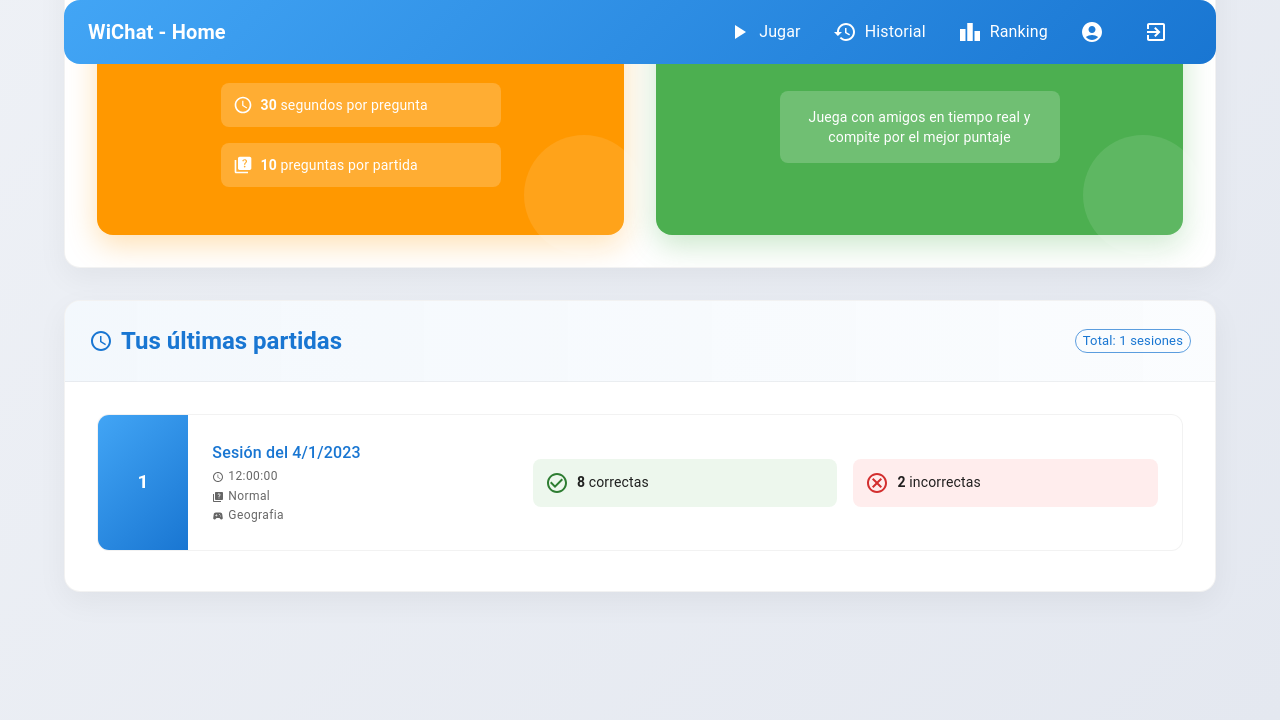
Test case: HomePage Component › opens and interacts with session details dialog
This screenshot has width=1280, height=720.
(page scrolled)
Expected: the heading "Tus últimas partidas" is shown, [89,325,342,357]
Click on a session card
Click the text "correctas" at (640,482), box [97,414,1183,551]
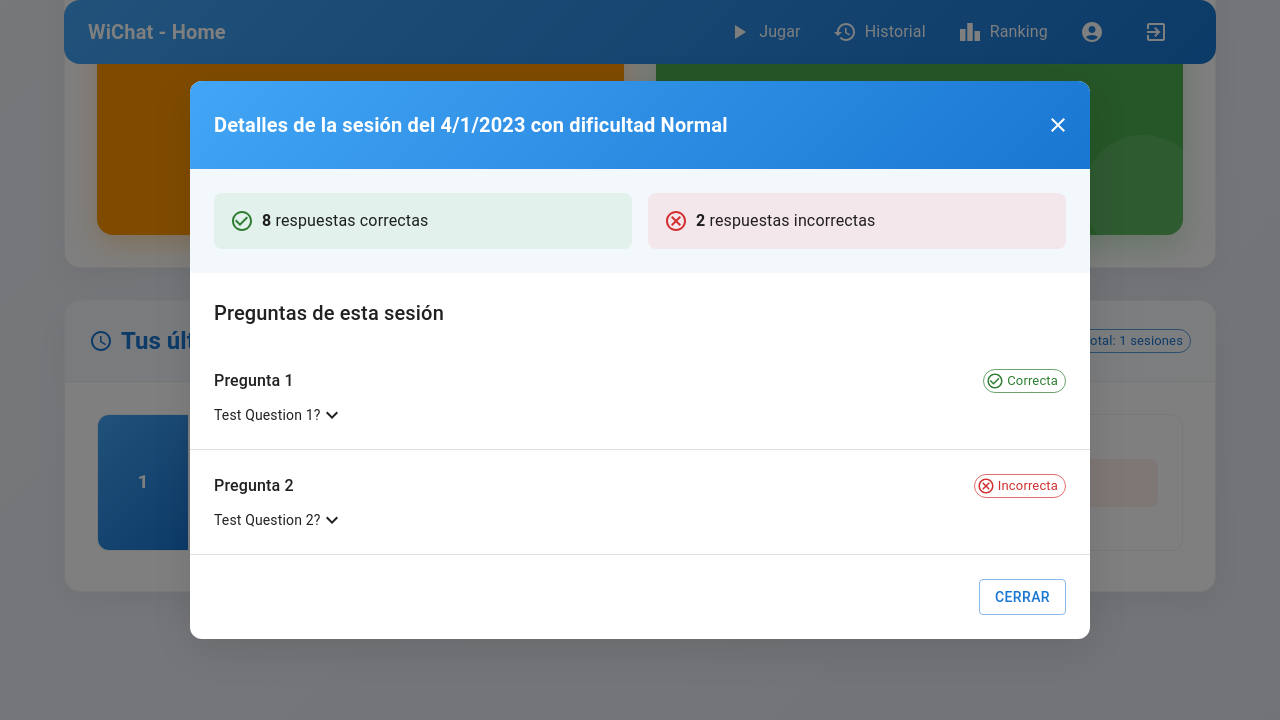
Now the text "Detalles de la sesión del 4/1/2023 con dificultad Normal" is shown, box [214,109,728,141]
Now the heading "Pregunta 1" is shown
Expand question details
Click the heading "Pregunta 1" at (254,381), box [214,367,294,395]
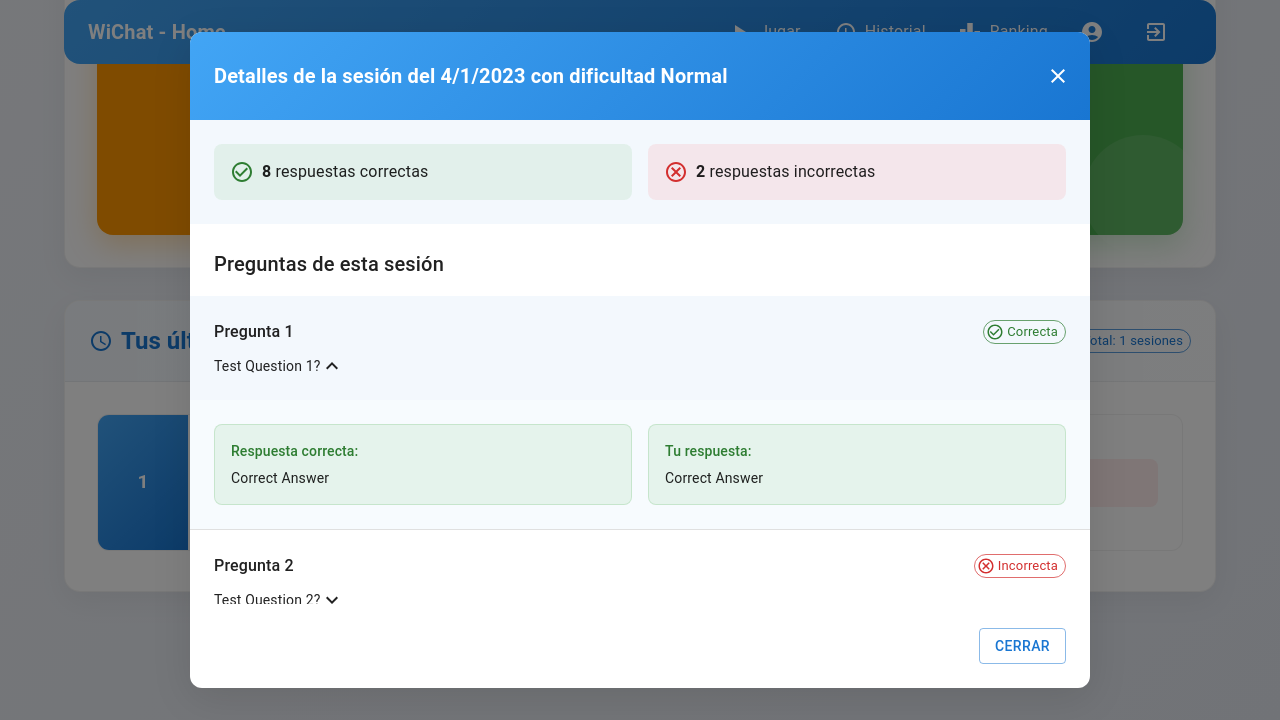
Now the heading "Respuesta correcta:" is shown, box [231,443,358,459]
Close dialog
Click the button "Cerrar" at (1022,646), box [979,628,1066,664]
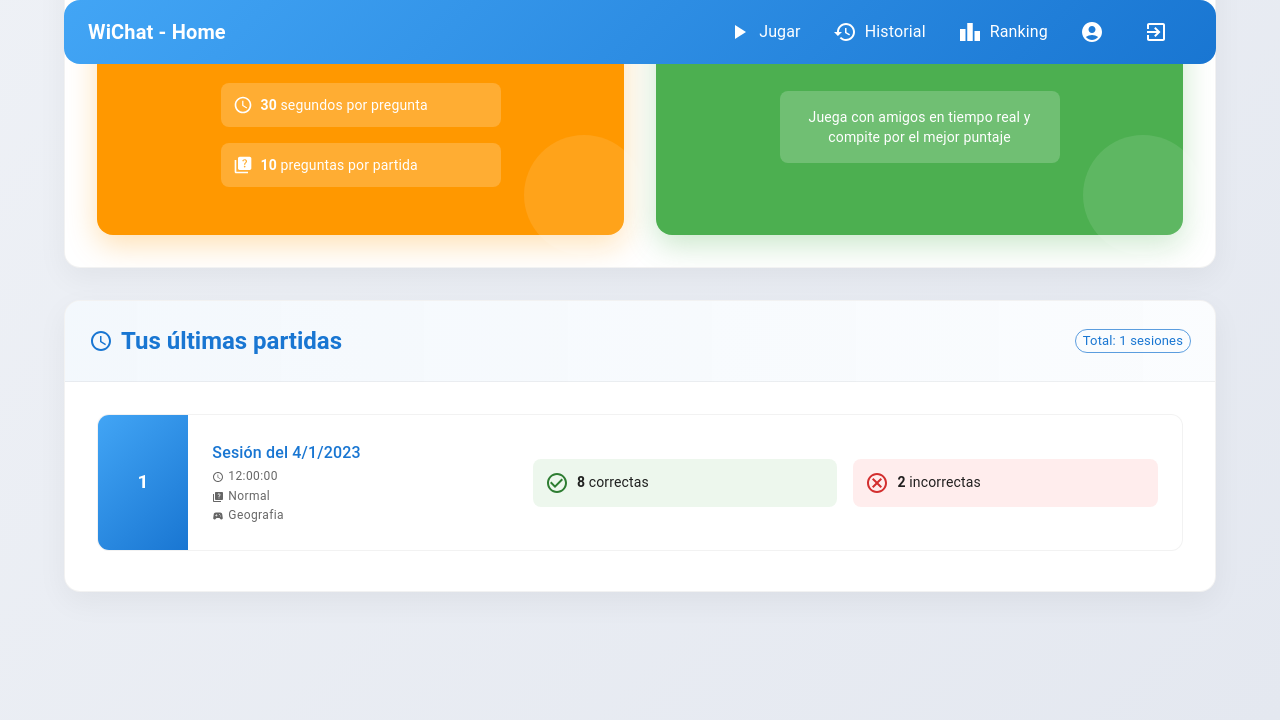
Now the text "Detalles de la sesión" is gone
